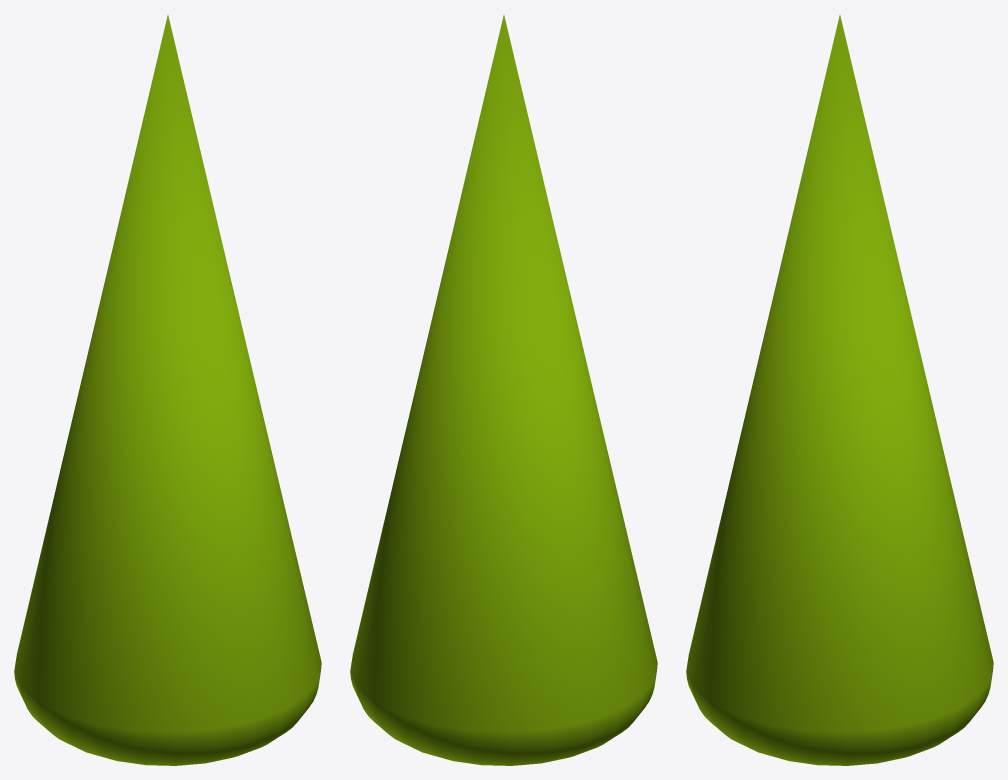
File: HPKo21m.glb
3 views of the same model, side by side, from view 1: azimuth 30°, elevation 25°; view 2: azimuth 150°, elevation 25°; view 3: azimuth 270°, elevation 25° (orthographic).
Visible parts, largest first — view 1: HPKo21m; view 2: HPKo21m; view 3: HPKo21m.
Part boxes in pixels (x1,y1,x2,y2): HPKo21m: (14, 15, 321, 765); HPKo21m: (350, 15, 657, 765); HPKo21m: (686, 15, 993, 765).
Size of the model in its own units: 8.03 by 21 by 8.03.
